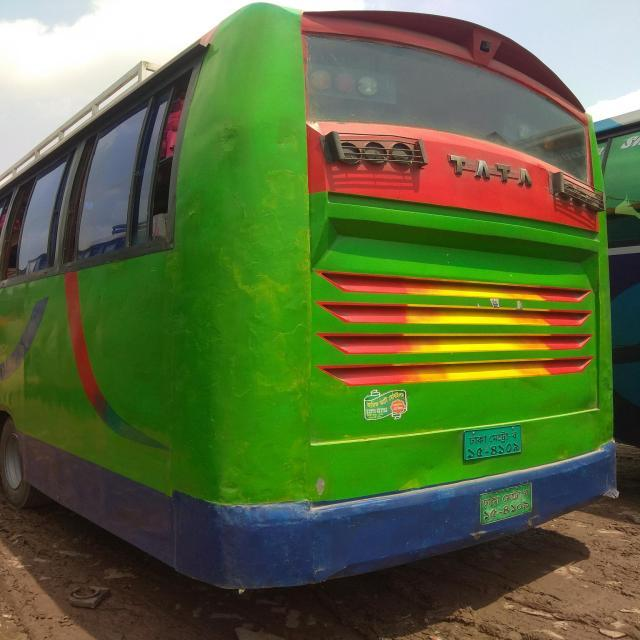numberplate: (477, 480, 533, 526), (462, 424, 522, 462)
